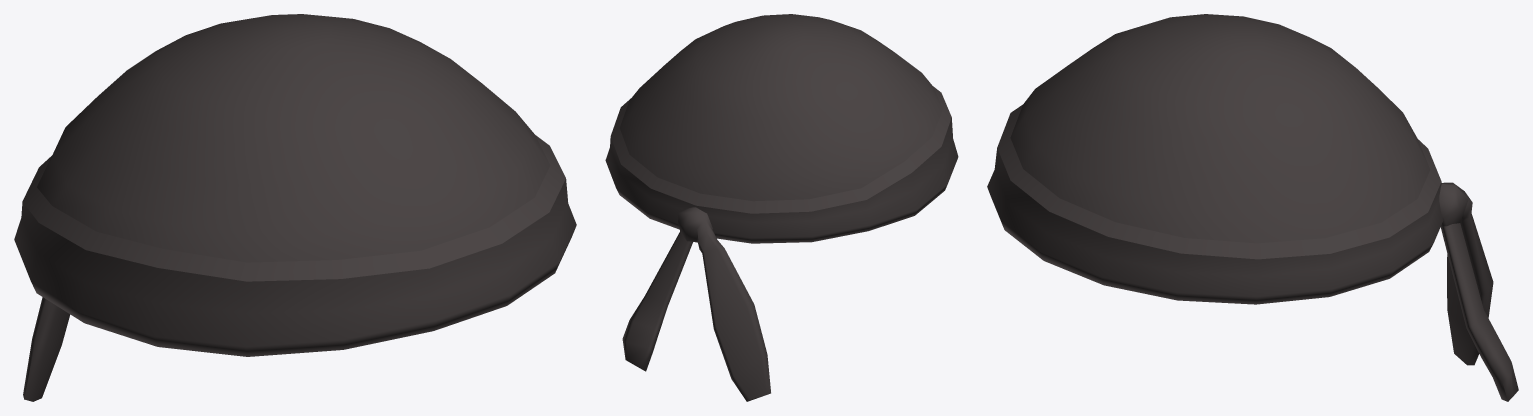
The model's file is Hat_114_03.fbx.
3 views of the same model, side by side, from view 1: azimuth 30°, elevation 25°; view 2: azimuth 150°, elevation 25°; view 3: azimuth 270°, elevation 25° (orthographic). The views are drawn at different scales.
Visible parts, largest first — view 1: Hat_114_03; view 2: Hat_114_03; view 3: Hat_114_03.
Boxes of the visible parts, bbox=[...] form: Hat_114_03: bbox=[14, 14, 576, 401]; Hat_114_03: bbox=[605, 14, 958, 401]; Hat_114_03: bbox=[987, 14, 1518, 401].
Size of the model in its own units: 36.84 by 32.99 by 43.12.
